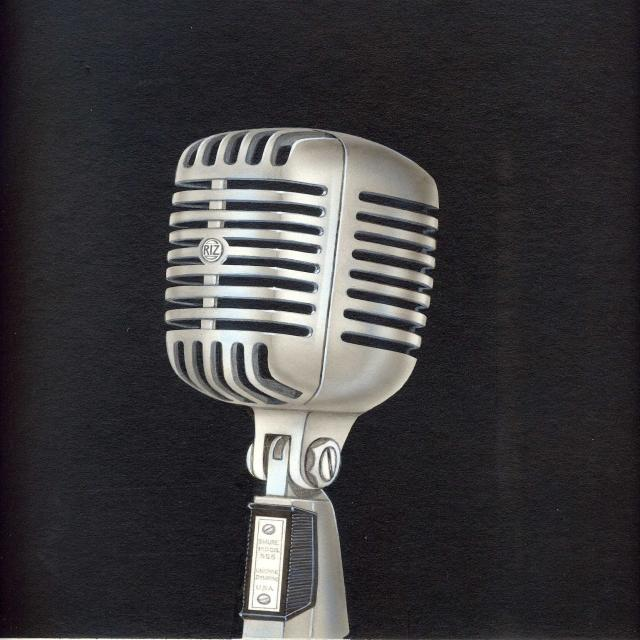microphone: (159, 134, 440, 632)
